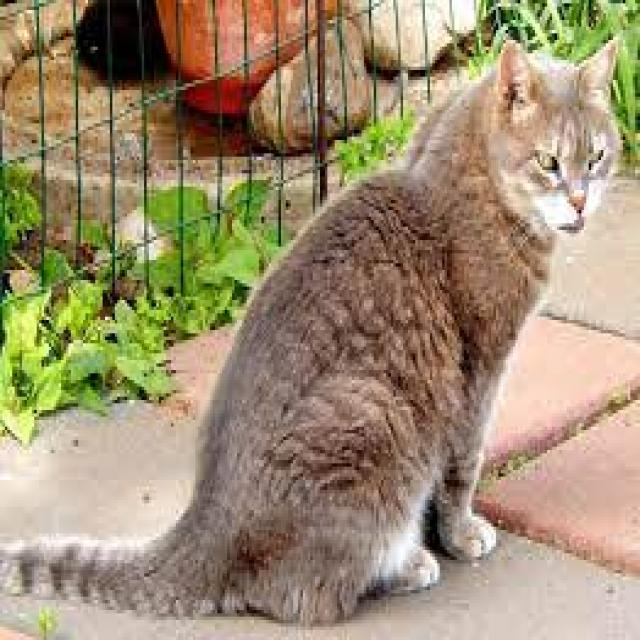Cat: (0, 32, 625, 630)
